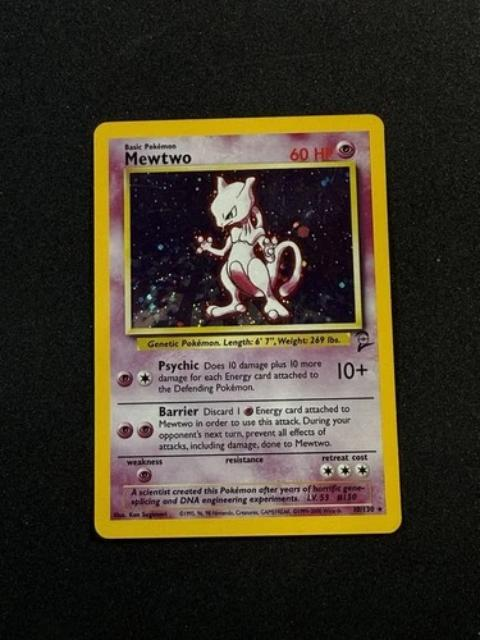Card: (90, 110, 405, 542)
Name: (118, 146, 197, 168)
